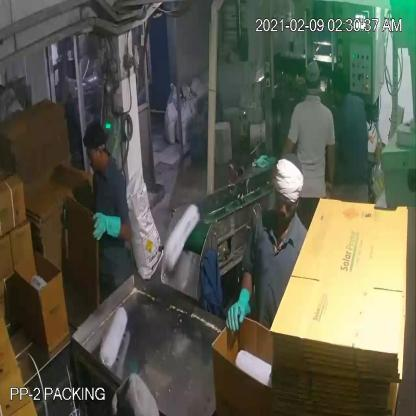glove: (87, 205, 130, 247), (218, 290, 255, 335)
no_glove: (266, 124, 296, 178), (323, 128, 339, 198)
